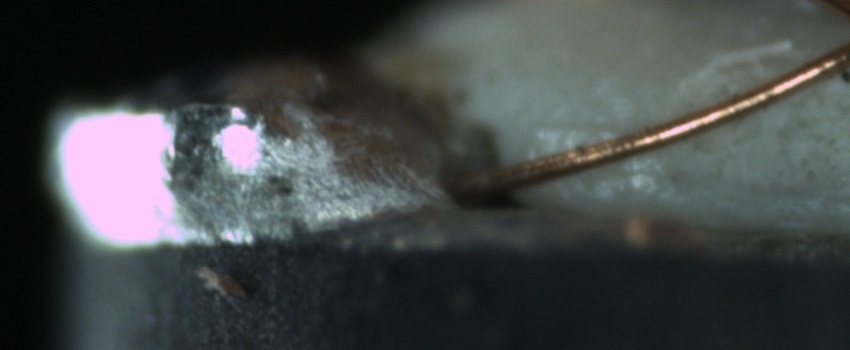DL: (529, 99, 656, 153)
